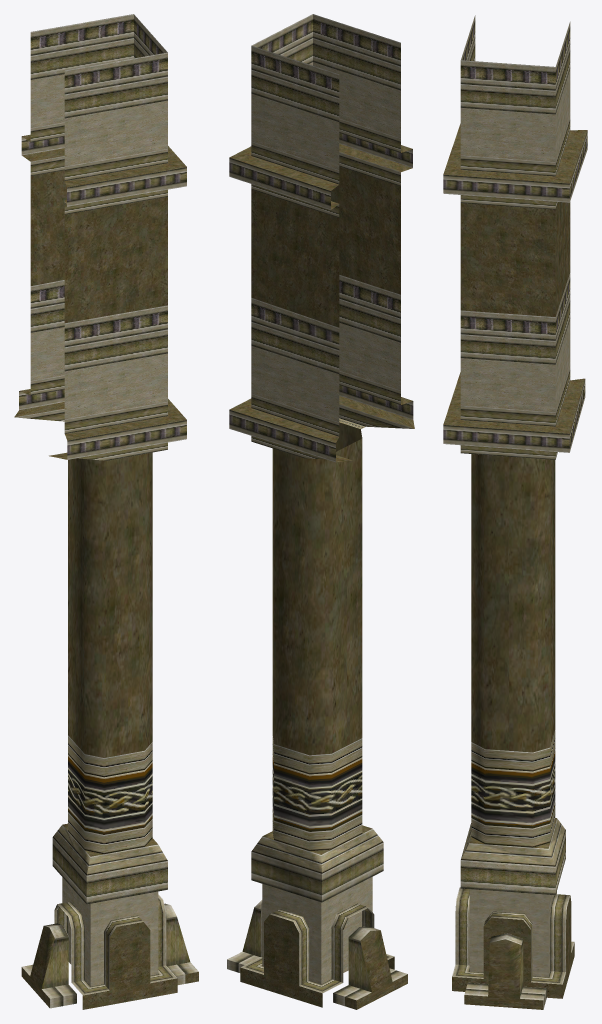
File: CH09_SMAUG_PLAYSURFACE_LAIR62.fbx
The picture shows the model from 3 angles, left to right: view 1: azimuth 30°, elevation 25°; view 2: azimuth 150°, elevation 25°; view 3: azimuth 270°, elevation 25°; orthographic projection.
Visible parts, largest first — view 1: CH09_SMAUG_PLAYSURFACE_LAIR62; view 2: CH09_SMAUG_PLAYSURFACE_LAIR62; view 3: CH09_SMAUG_PLAYSURFACE_LAIR62.
Boxes of the visible parts, <box> form: CH09_SMAUG_PLAYSURFACE_LAIR62: <box>14,14,198,1009</box>; CH09_SMAUG_PLAYSURFACE_LAIR62: <box>227,14,414,1009</box>; CH09_SMAUG_PLAYSURFACE_LAIR62: <box>443,15,587,1009</box>.
Bounding box in the file's own units: 47096 × 271667 × 38335.
Materials: 7 (7 with a texture image).
